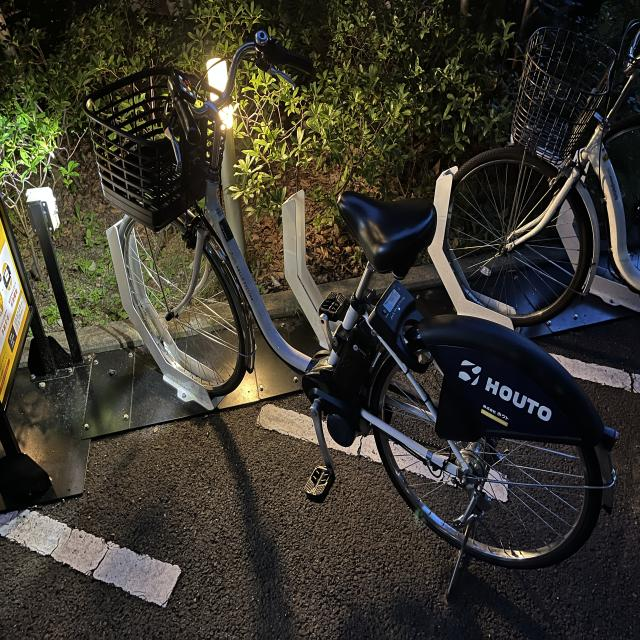basket: (81, 64, 227, 235), (506, 22, 621, 170)
battery: (333, 322, 379, 398)
